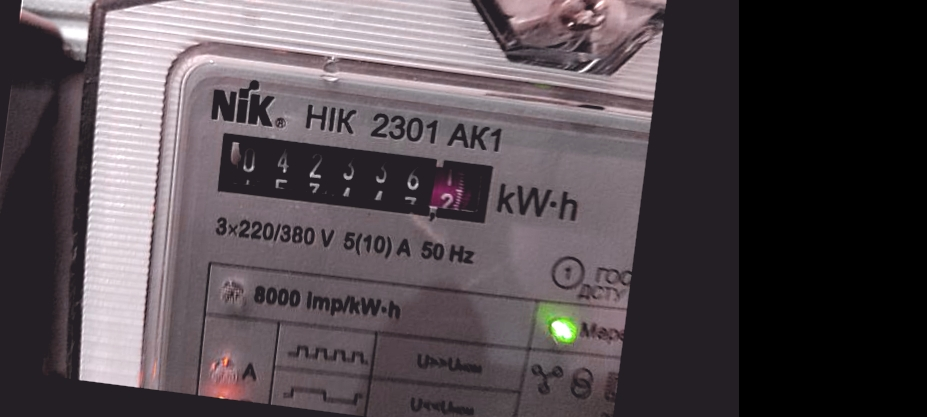0: (239, 145, 259, 174)
1: (442, 164, 457, 188)
2: (307, 149, 326, 180), (437, 190, 455, 210)
3: (371, 154, 390, 186), (339, 152, 357, 182)
4: (273, 144, 294, 175)
6: (404, 161, 425, 193)
screen: (204, 118, 507, 236)
